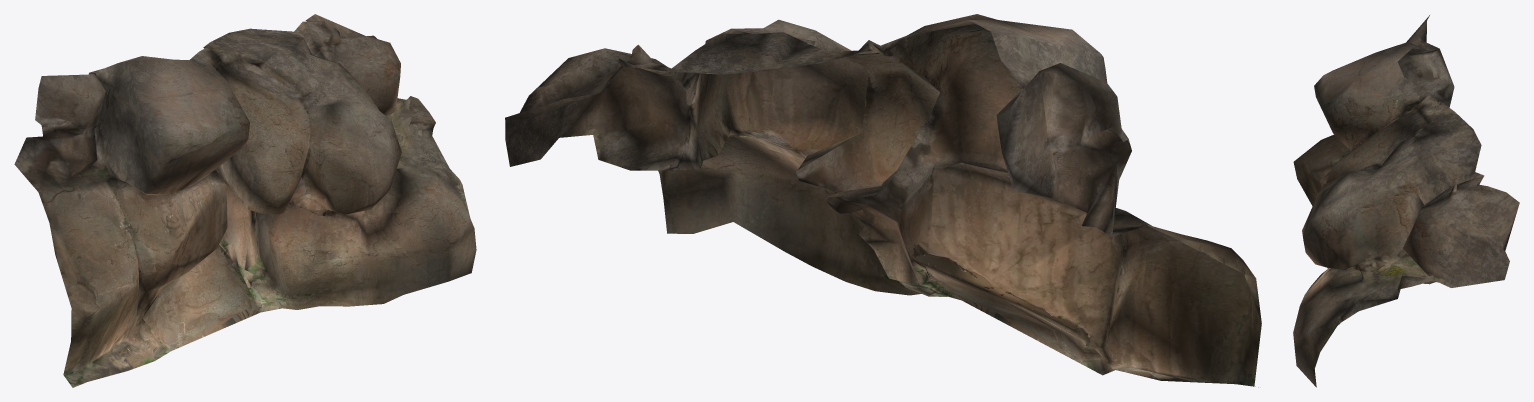
Rendered from namaqualand_cliff_01.glb.
3 views of the same model, side by side, from view 1: azimuth 30°, elevation 25°; view 2: azimuth 150°, elevation 25°; view 3: azimuth 270°, elevation 25° (orthographic). The views are drawn at different scales.
Parts seen in each view (by area): view 1: drone_rock_01; view 2: drone_rock_01; view 3: drone_rock_01.
Boxes of the visible parts, x1,y1,x2,y2 form: drone_rock_01: [14, 14, 476, 387]; drone_rock_01: [505, 14, 1261, 387]; drone_rock_01: [1293, 15, 1519, 387].
Bounding box in the file's own units: 8.26 × 4.95 × 4.35.
1 material, 1 textured.
